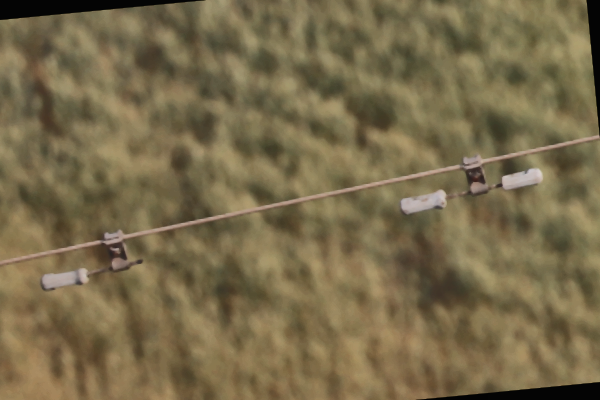damper: (396, 151, 545, 216)
damper_defect: (38, 228, 147, 292)
